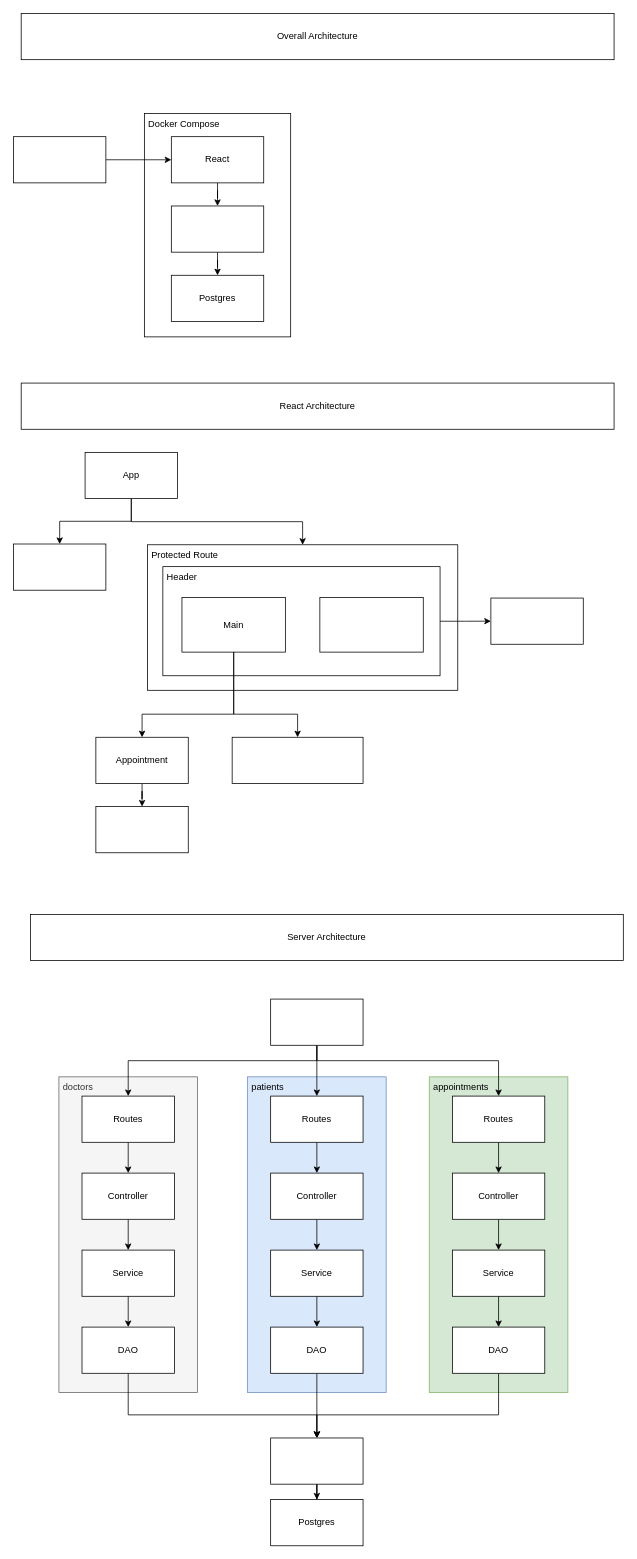
Some shapes in this 637 by 1559 pixel diagram are drawn without their labels. Here are the shapes that lost their labels. From the top down, the centre of each, then its label:
point (59, 159): User
point (217, 228): Server
point (59, 566): Login
point (371, 624): AppointmentFix
point (536, 620): Logout Button
point (297, 760): AppointmentDateDropdown
point (141, 829): AppointmentCancel
point (316, 1021): Express
point (316, 1460): Knex
